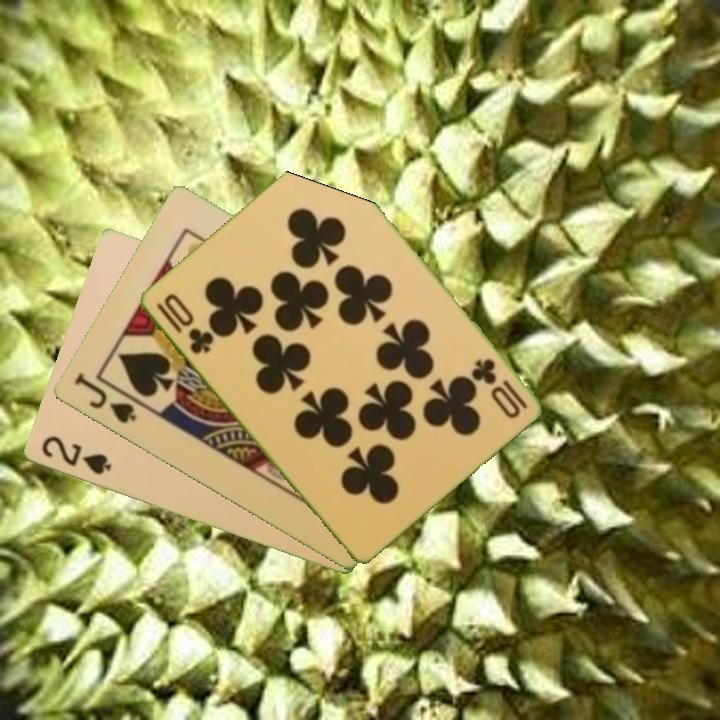10c: (152, 289, 216, 357), (468, 355, 530, 412)
2s: (37, 432, 114, 478)
Js: (70, 369, 139, 427)
